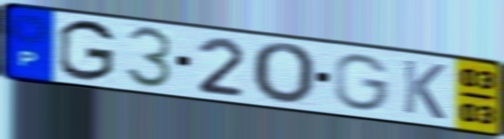2: (195, 36, 247, 100)
3: (122, 24, 175, 91)
G: (56, 17, 118, 83), (331, 52, 394, 114)
K: (400, 57, 448, 122)
O: (249, 41, 320, 108)
